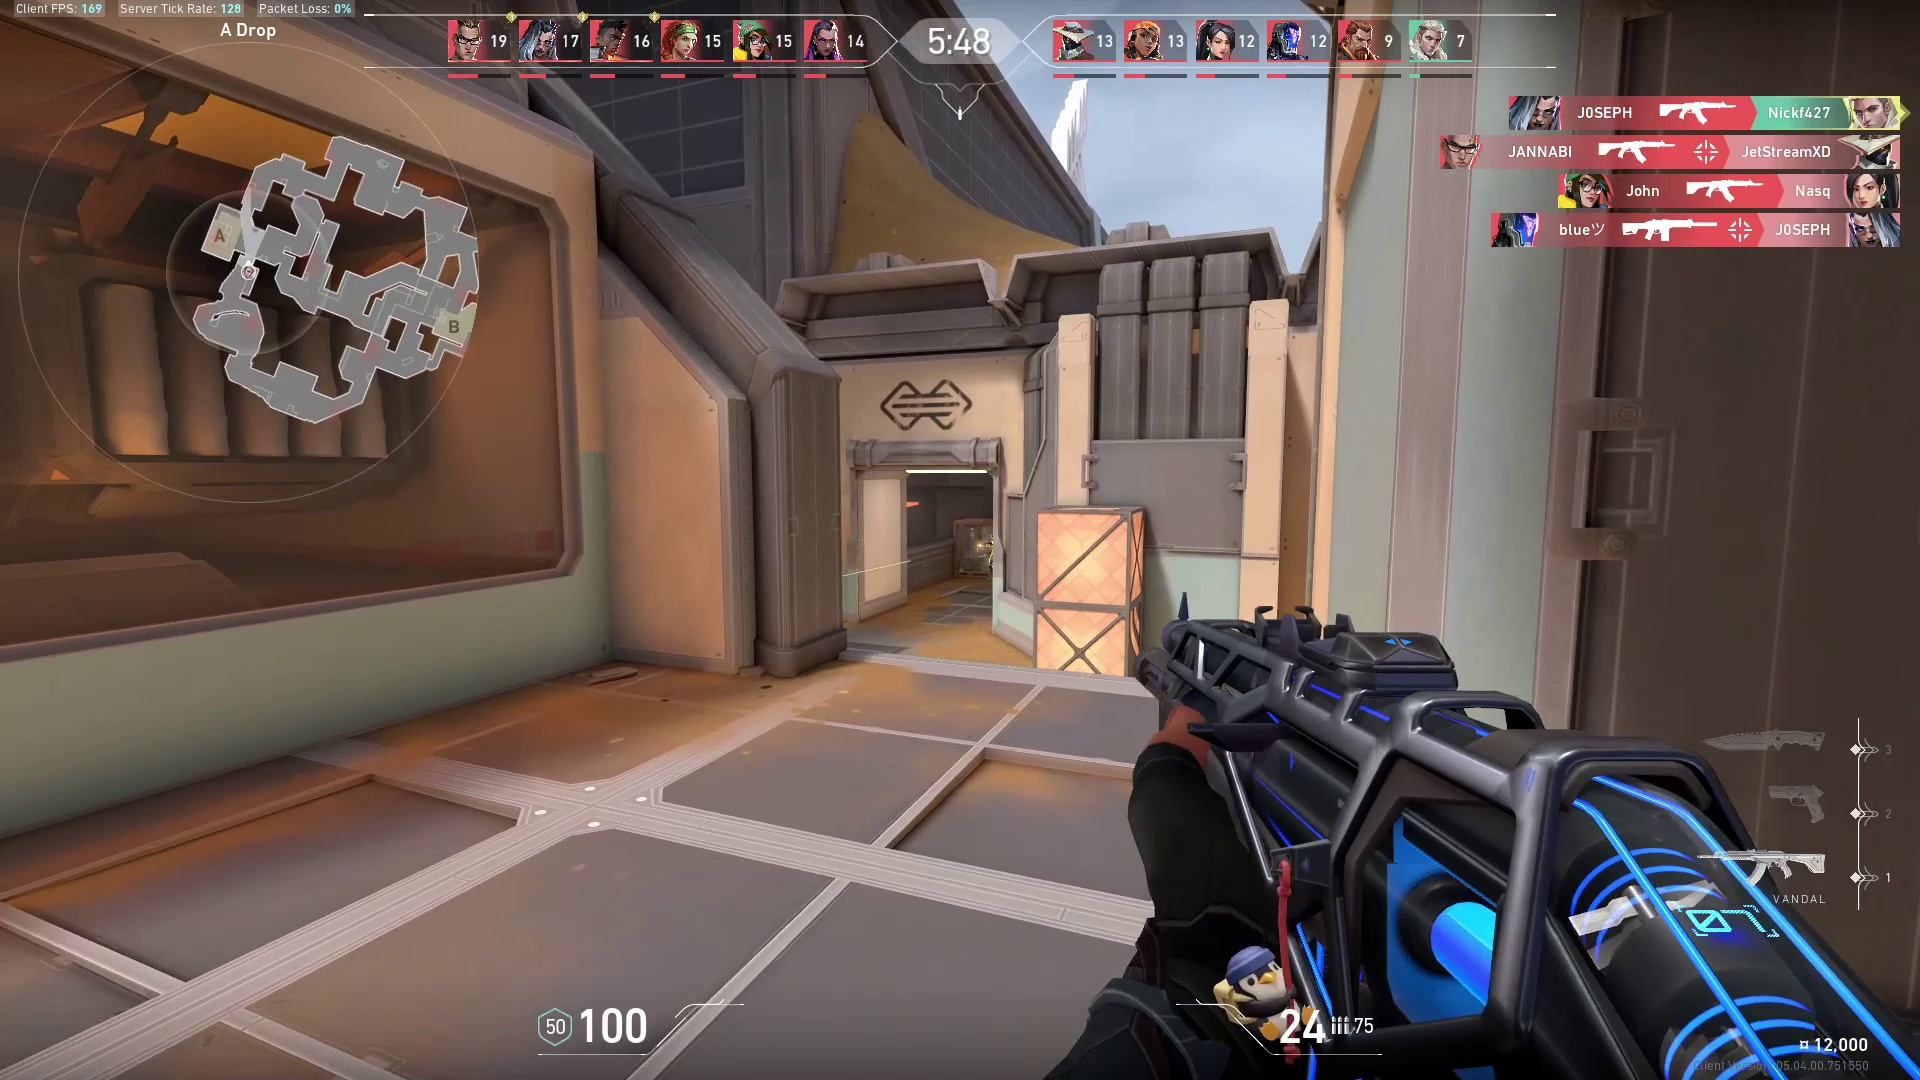enemy_body: (983, 542, 994, 580)
enemy_head: (990, 533, 994, 541)
